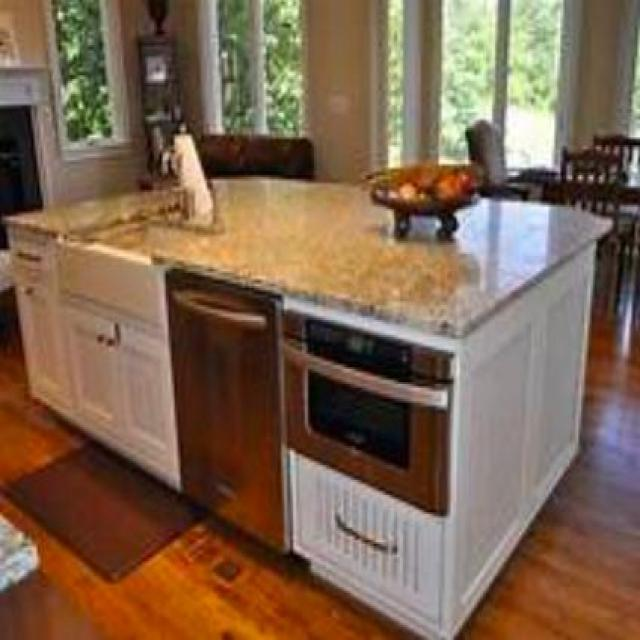dishwasher: (164, 258, 287, 553)
